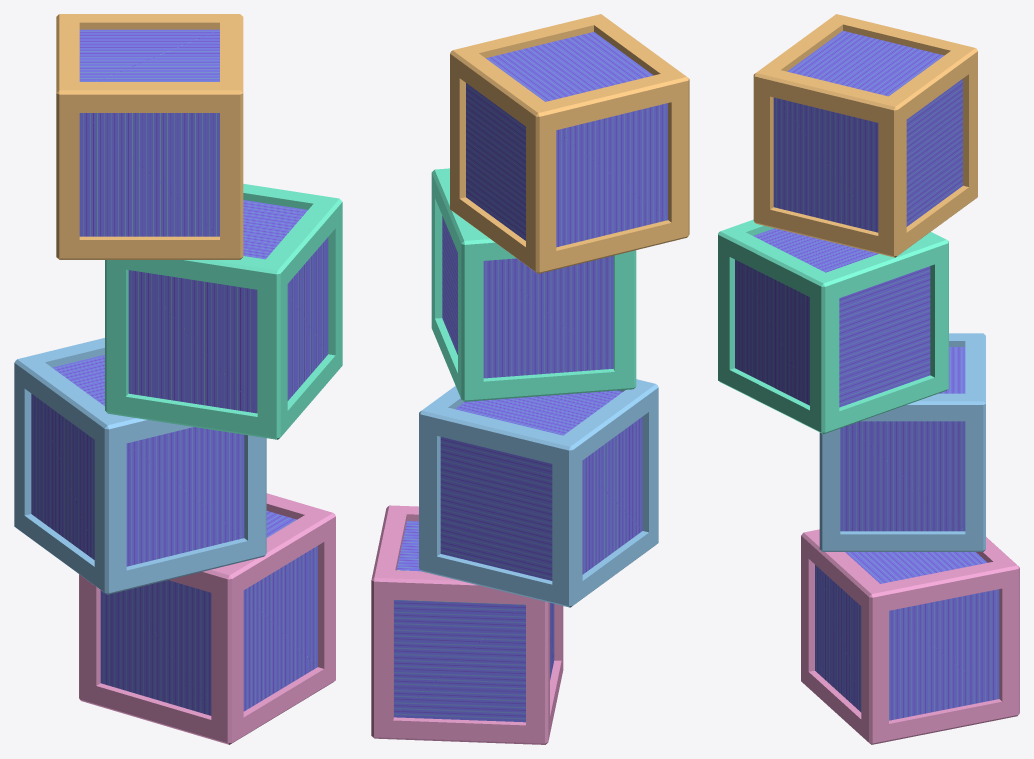
Rendered from WoodBlocks_Group_D_01.FBX.
The picture shows the model from 3 angles, left to right: view 1: azimuth 30°, elevation 25°; view 2: azimuth 150°, elevation 25°; view 3: azimuth 270°, elevation 25°; orthographic projection. The views are drawn at different scales.
Parts seen in each view (by area): view 1: WoodBlocks_Group_D_Rough_01, WoodBlocks_Group_D_01; view 2: WoodBlocks_Group_D_Rough_01, WoodBlocks_Group_D_01; view 3: WoodBlocks_Group_D_Rough_01, WoodBlocks_Group_D_01.
Part boxes in pixels (box(x1,y1,x2,y2)): WoodBlocks_Group_D_Rough_01: box(31, 29, 328, 715); WoodBlocks_Group_D_01: box(14, 14, 342, 744); WoodBlocks_Group_D_Rough_01: box(394, 32, 667, 722); WoodBlocks_Group_D_01: box(371, 14, 689, 744); WoodBlocks_Group_D_Rough_01: box(735, 30, 999, 720); WoodBlocks_Group_D_01: box(718, 14, 1019, 744).
Size of the model in its own units: 2.21 by 4.8 by 2.18.
